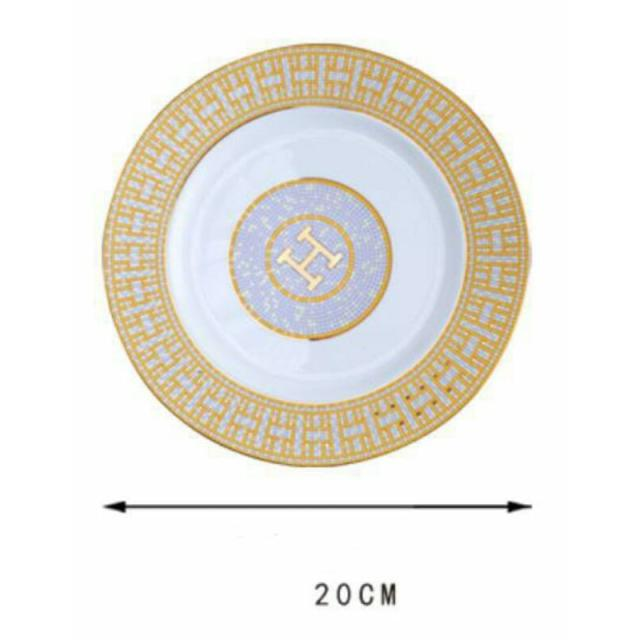Plate: (99, 26, 538, 466)
